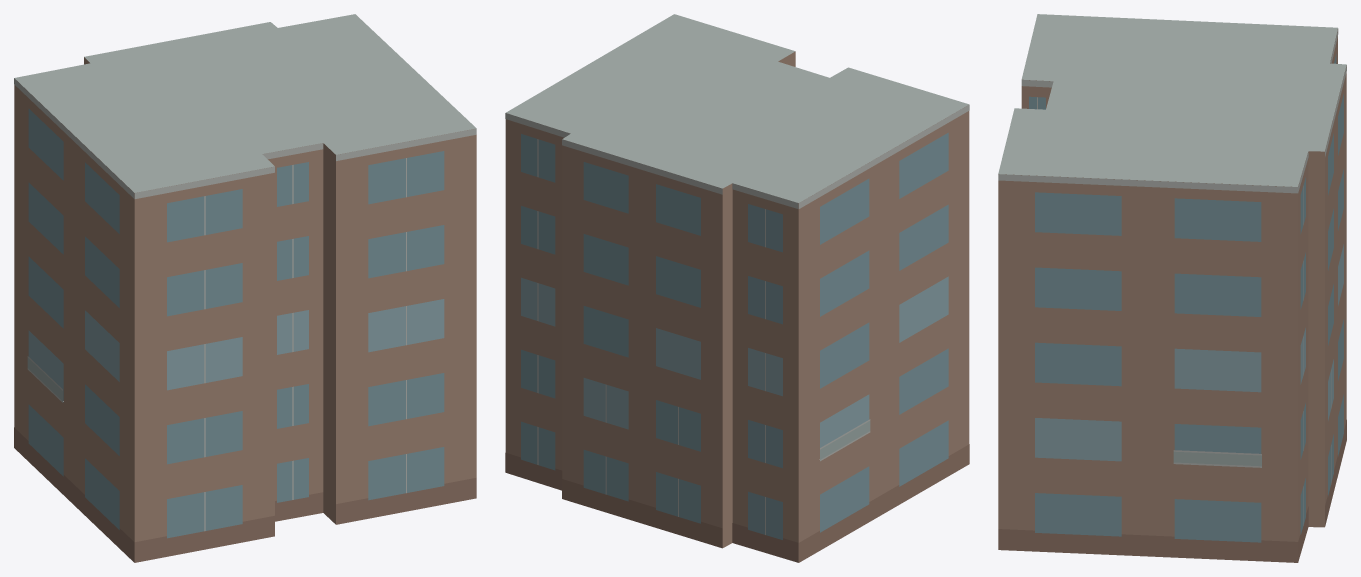
File: survey-upis-32657750.glb
3 views of the same model, side by side, from view 1: azimuth 30°, elevation 25°; view 2: azimuth 150°, elevation 25°; view 3: azimuth 270°, elevation 25° (orthographic). The views are drawn at different scales.
Parts seen in each view (by area): view 1: survey-upis-32657750.tmp; view 2: survey-upis-32657750.tmp; view 3: survey-upis-32657750.tmp.
Boxes of the visible parts, x1,y1,x2,y2 form: survey-upis-32657750.tmp: (14, 14, 476, 562); survey-upis-32657750.tmp: (505, 14, 969, 562); survey-upis-32657750.tmp: (998, 14, 1346, 562).
Bounding box in the file's own units: 14.13 × 14.3 × 12.03.
